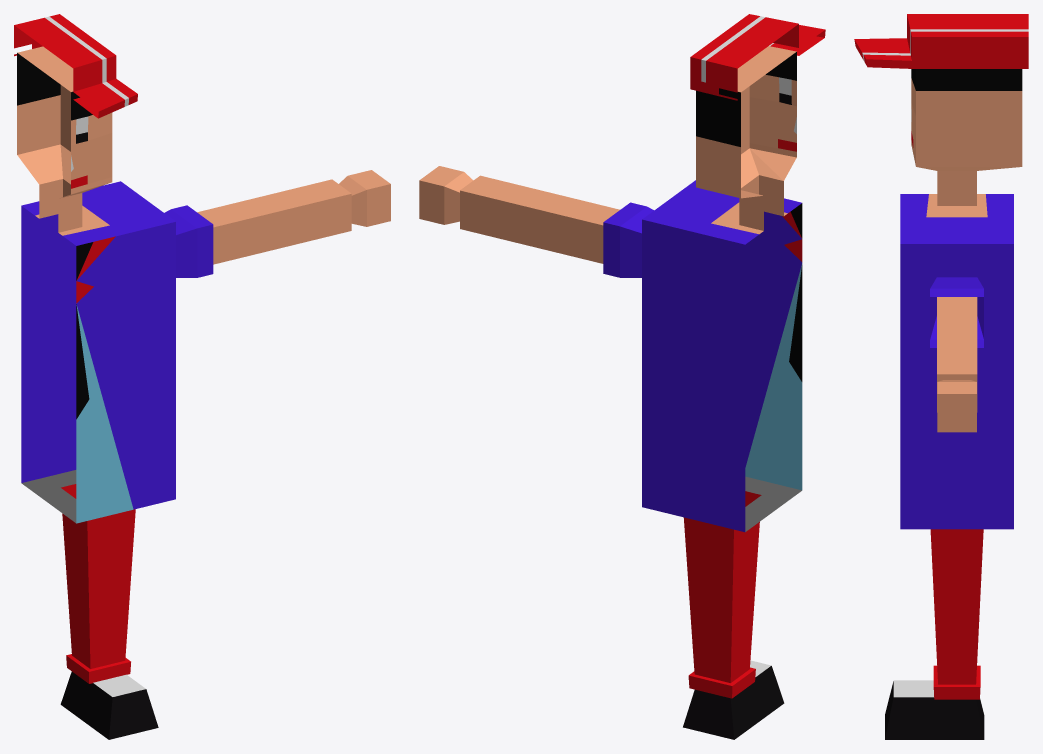
File: LOWPOLYEXMP.glb
3 views of the same model, side by side, from view 1: azimuth 30°, elevation 25°; view 2: azimuth 150°, elevation 25°; view 3: azimuth 270°, elevation 25° (orthographic). The views are drawn at different scales.
Visible parts, largest first — view 1: Cube; view 2: Cube; view 3: Cube.
Boxes of the visible parts, left/top/right/bottom form: Cube: left=14, top=14, right=390, bottom=739; Cube: left=419, top=14, right=825, bottom=739; Cube: left=854, top=14, right=1028, bottom=739.
Bounding box in the file's own units: 3.34 × 6.42 × 1.47.
